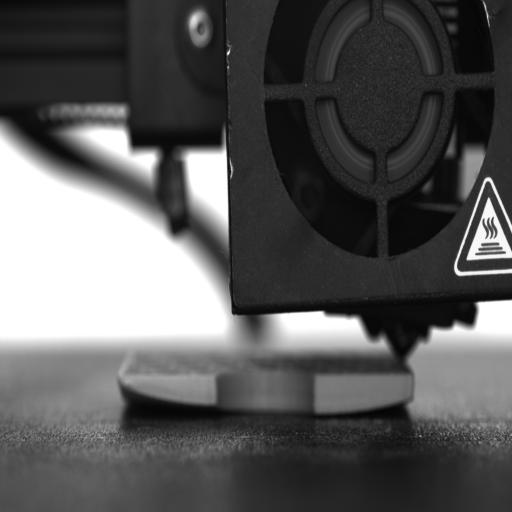warp: (115, 374, 214, 416), (325, 384, 414, 424)
